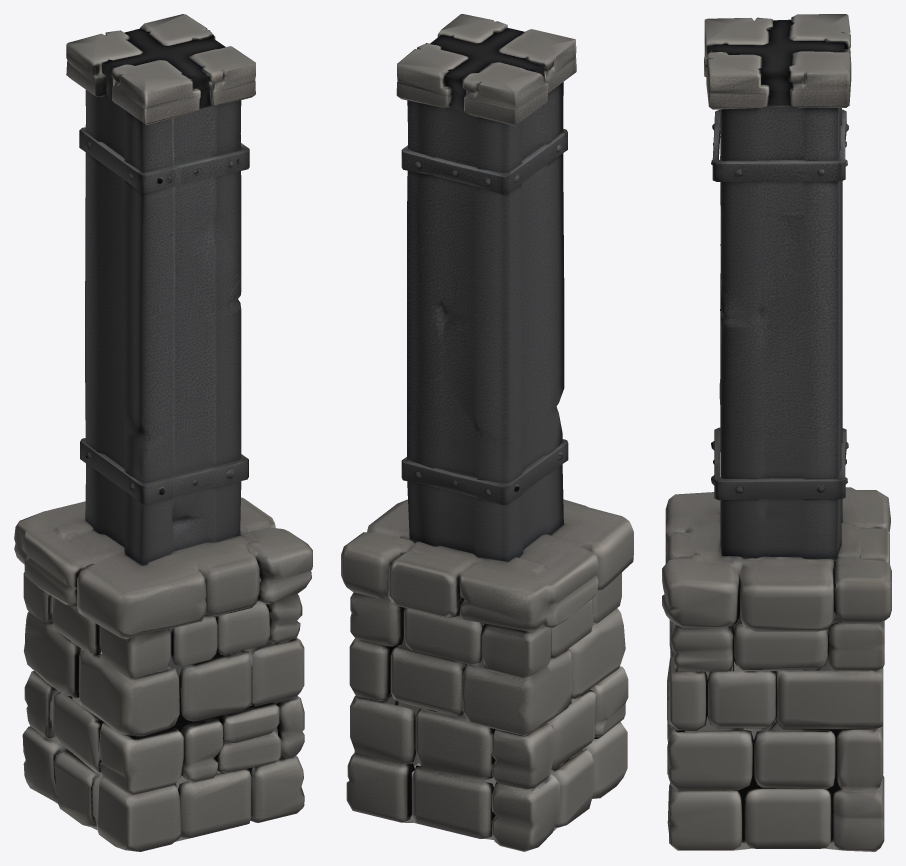
Rendered from pilastro_dimora.fbx.
The picture shows the model from 3 angles, left to right: view 1: azimuth 30°, elevation 25°; view 2: azimuth 150°, elevation 25°; view 3: azimuth 270°, elevation 25°; orthographic projection. The views are drawn at different scales.
Visible parts, largest first — view 1: tripo_node_bd7ed7a1; view 2: tripo_node_bd7ed7a1; view 3: tripo_node_bd7ed7a1.
Boxes of the visible parts, x1,y1,x2,y2 form: tripo_node_bd7ed7a1: (14,14,312,851); tripo_node_bd7ed7a1: (341,14,633,851); tripo_node_bd7ed7a1: (662,14,891,851).
Bounding box in the file's own units: 0.2866 × 0.9995 × 0.2729.
Materials: 1 (1 with a texture image).
